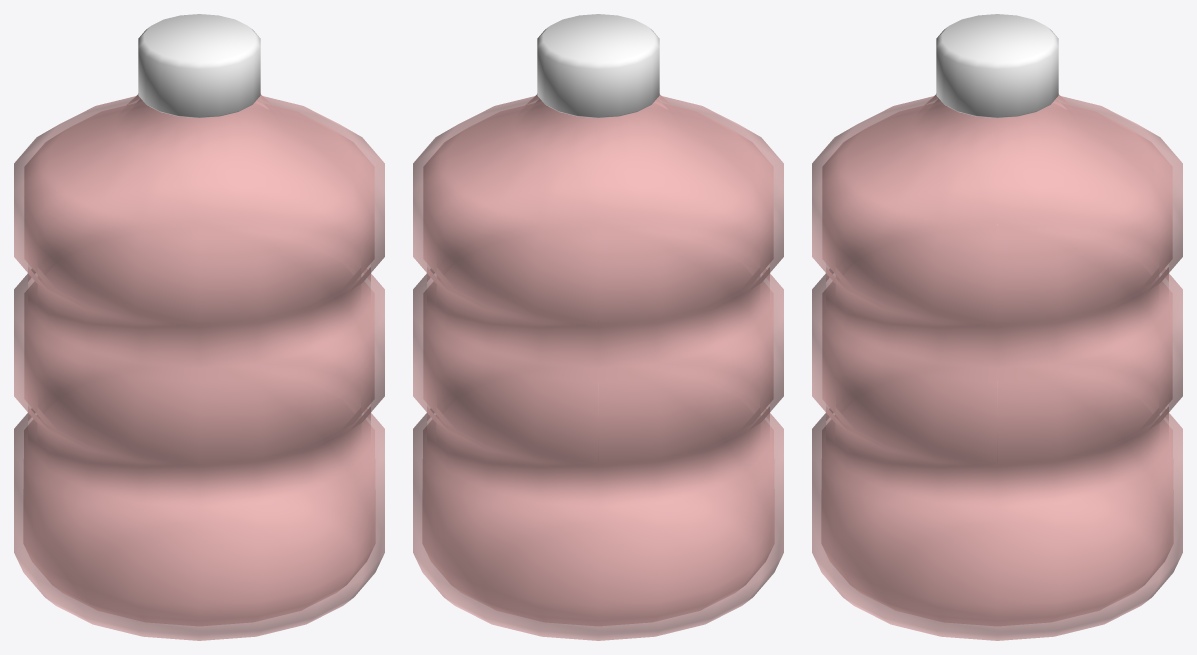
File: WaterJug.fbx
3 views of the same model, side by side, from view 1: azimuth 30°, elevation 25°; view 2: azimuth 150°, elevation 25°; view 3: azimuth 270°, elevation 25° (orthographic).
Visible parts, largest first — view 1: WaterJug; view 2: WaterJug; view 3: WaterJug.
Boxes of the visible parts, bbox=[...] form: WaterJug: bbox=[14, 14, 384, 640]; WaterJug: bbox=[413, 14, 783, 640]; WaterJug: bbox=[812, 14, 1182, 640].
Bounding box in the file's own units: 0.0747 × 0.1168 × 0.0736.
